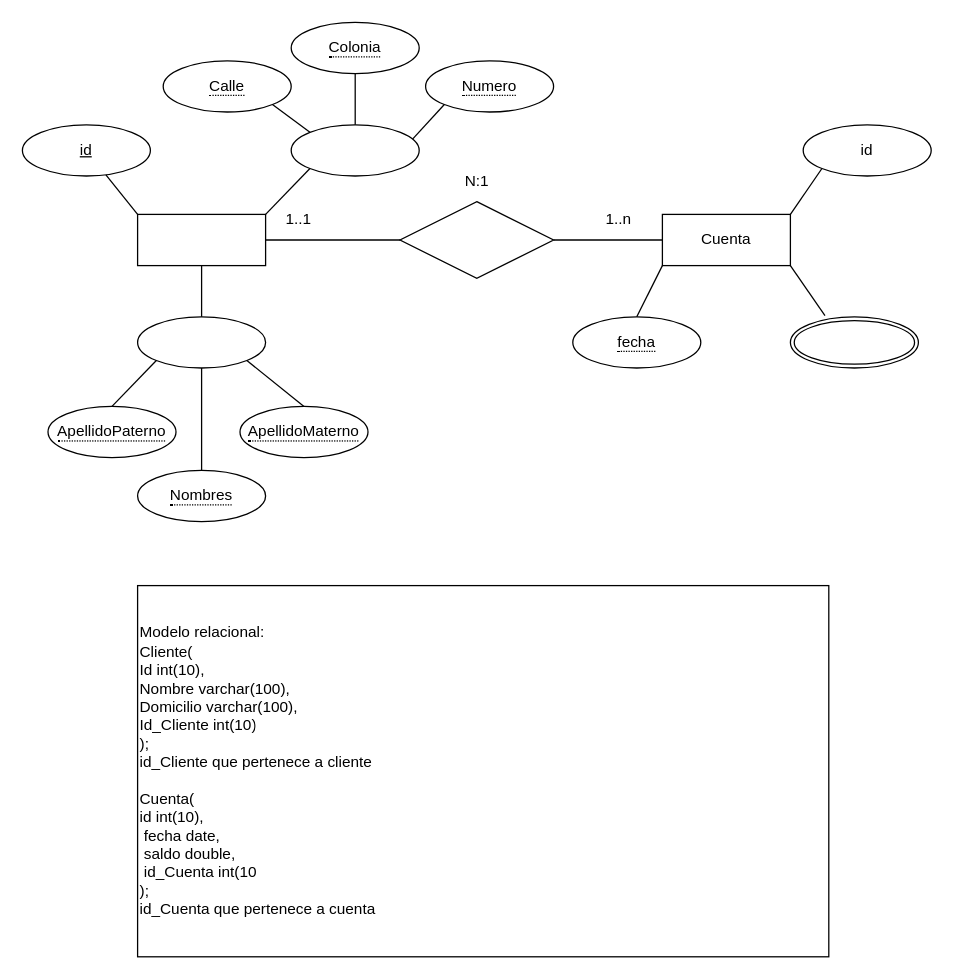
The diagram is 954 pixels wide and 979 high, and some of its shapes have lost their labels. Each missing label, with the centre of its shape:
"Cliente" belongs at point (201, 239).
"Domicilio" belongs at point (354, 150).
"Nombre" belongs at point (201, 342).
"Saldo" belongs at point (853, 342).
"Tiene" belongs at point (476, 239).
